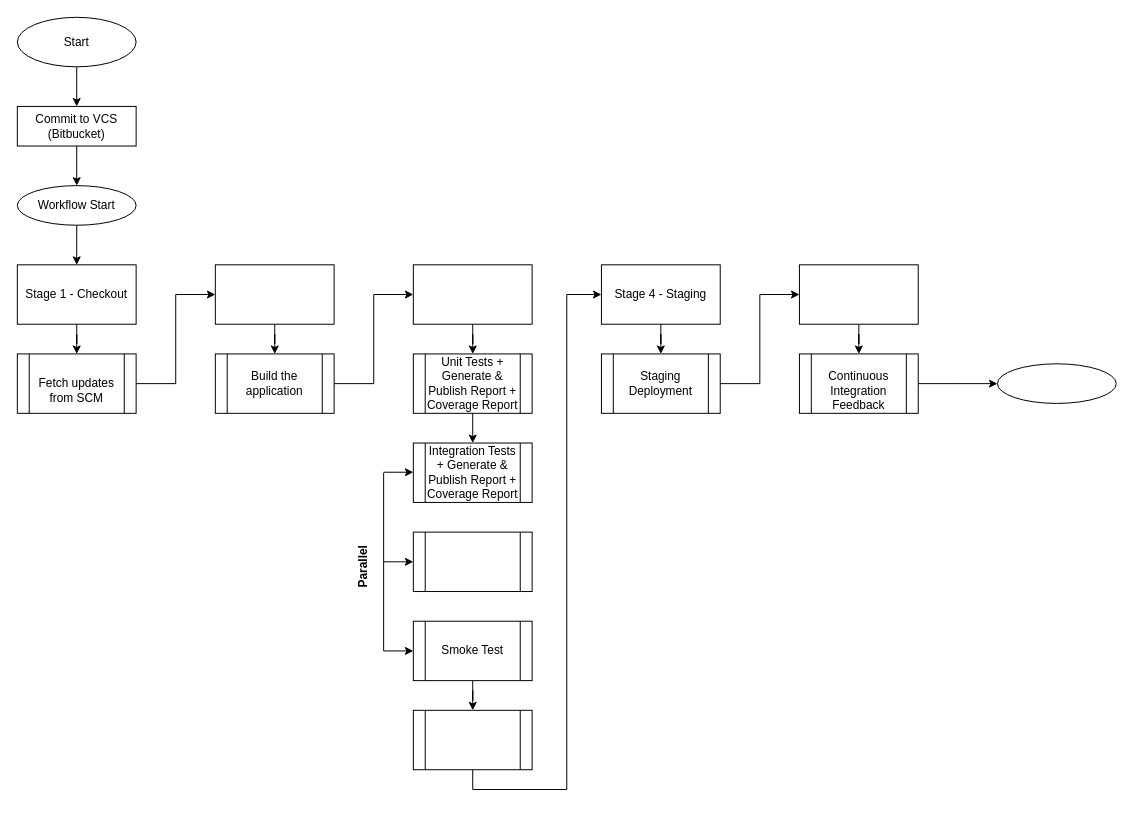
Image size: 1134x815. Some labels were removed from this diagram. The shapes that lost their labels are listed below. From the top down, each one's box as (x1, y1, x2, y2) in pixels, then its label:
(214, 264, 334, 324): Stage 2 - Build
(412, 264, 532, 324): Stage 3 - Tests
(798, 264, 918, 324): Stage 5 - Release
(996, 363, 1116, 403): Workflow End
(412, 531, 532, 592): Mutation Tests + Coverage Report
(412, 709, 532, 770): UI Acceptance Manual Test
